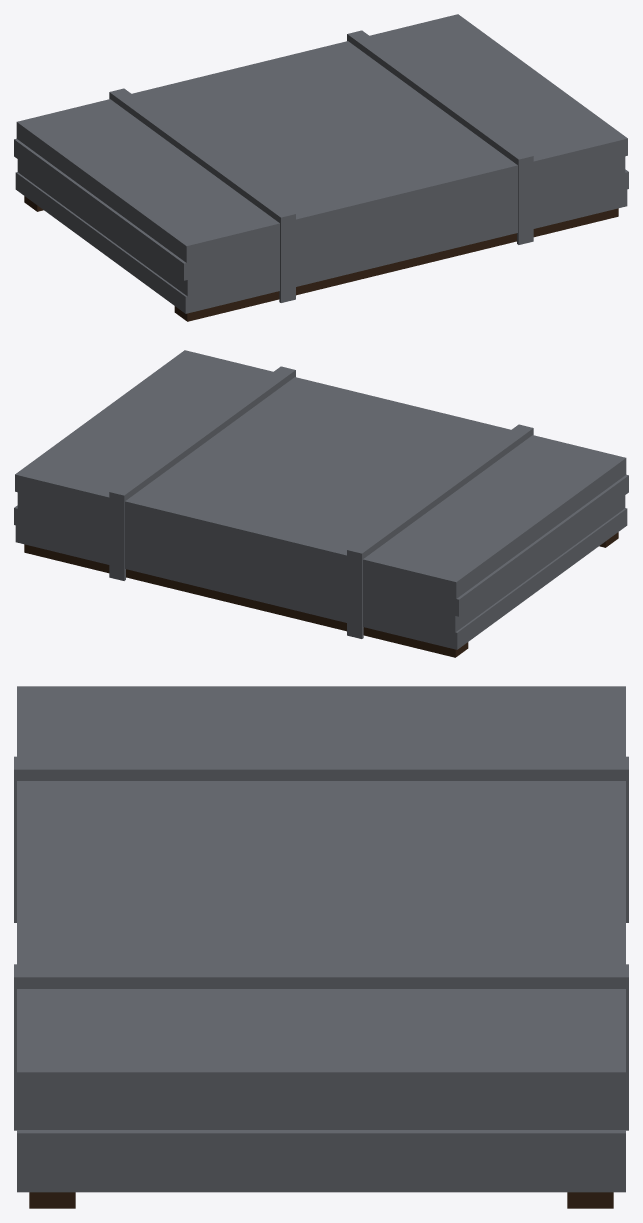
File: SN_Plate_Stack.glb
3 views of the same model, one above another, from view 1: azimuth 30°, elevation 25°; view 2: azimuth 150°, elevation 25°; view 3: azimuth 270°, elevation 25° (orthographic). The views are drawn at different scales.
Visible parts, largest first — view 1: SN_Plate_Stack; view 2: SN_Plate_Stack; view 3: SN_Plate_Stack.
Part boxes in pixels (x1=…): SN_Plate_Stack: x1=14, y1=14, x2=628, y2=321; SN_Plate_Stack: x1=14, y1=350, x2=628, y2=657; SN_Plate_Stack: x1=14, y1=686, x2=628, y2=1208.
Bounding box in the file's own units: 2.99 × 0.55 × 2.
